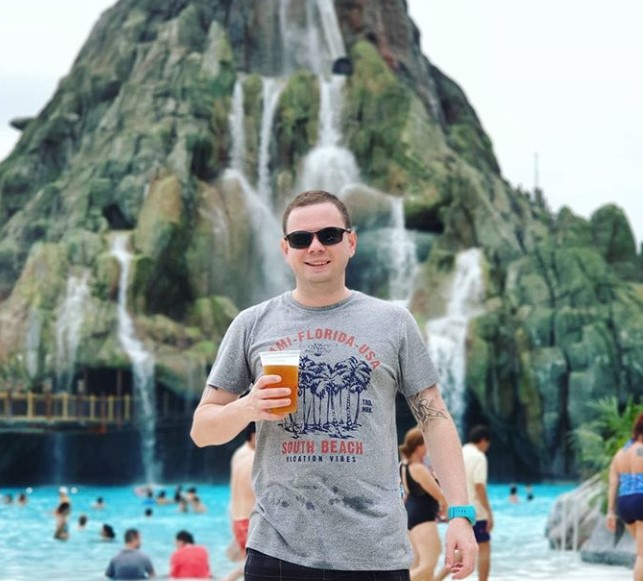face_no_mask: (281, 189, 356, 292)
